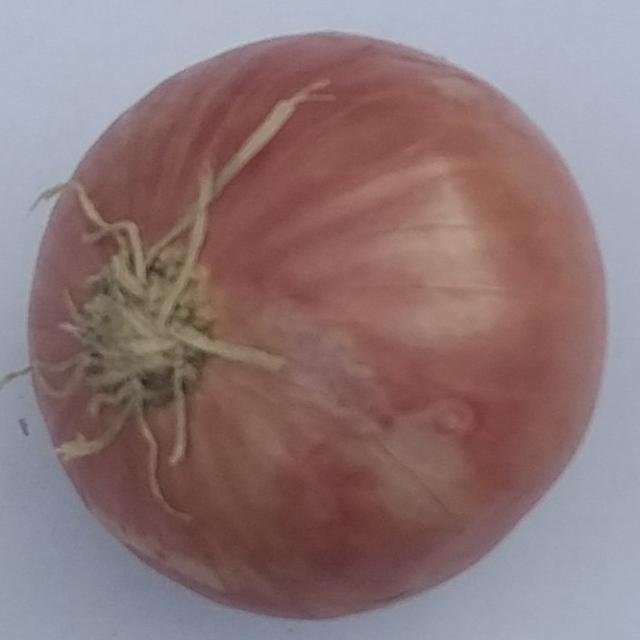onion: (21, 26, 614, 623)
